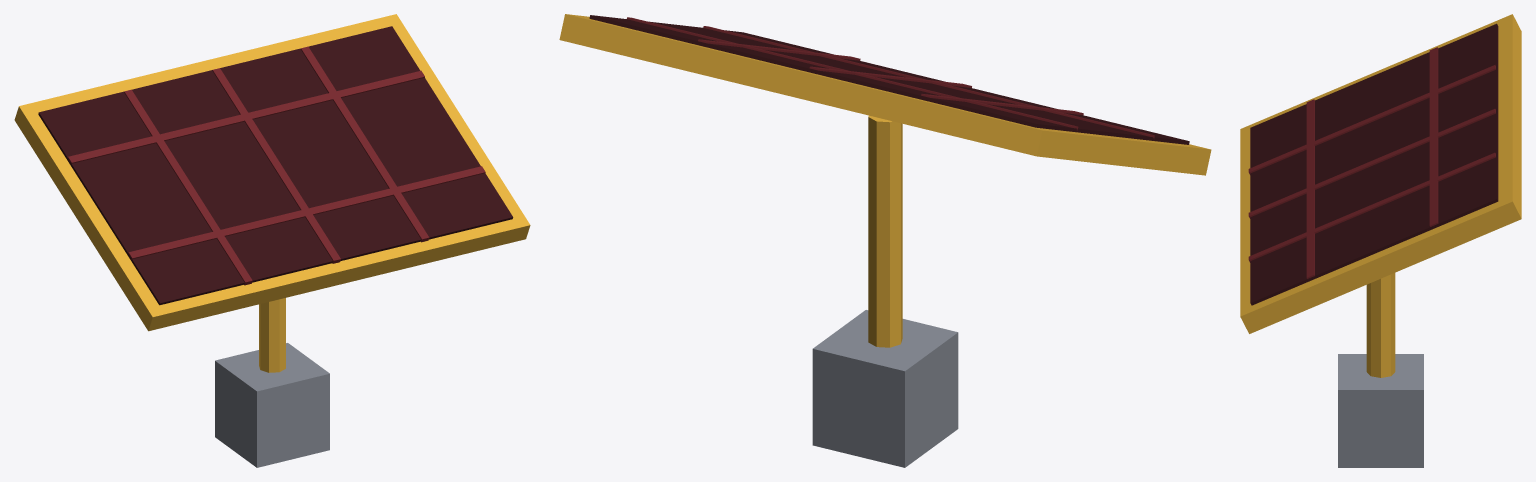
The model's file is painel-solar.glb.
3 renders of one model, left to right at view 1: azimuth 30°, elevation 25°; view 2: azimuth 150°, elevation 25°; view 3: azimuth 270°, elevation 25°, orthographic. The views are drawn at different scales.
Visible parts, largest first — view 1: Cube.002, Cube.001, Cube, Cube.007, Cube.006, Cube.005, Cube.003, Cube.004, Cylinder; view 2: Cube.001, Cube, Cube.002, Cylinder, Cube.006, Cube.007; view 3: Cube.002, Cube.001, Cube, Cylinder, Cube.007, Cube.006, Cube.005, Cube.003, Cube.004.
Boxes of the visible parts, x1=… form: Cube.002: x1=38, y1=26, x2=513, y2=305; Cube.001: x1=14, y1=14, x2=530, y2=331; Cube: x1=215, y1=343, x2=329, y2=467; Cube.007: x1=68, y1=70, x2=424, y2=163; Cube.006: x1=128, y1=166, x2=485, y2=260; Cube.005: x1=300, y1=46, x2=429, y2=242; Cube.003: x1=124, y1=89, x2=252, y2=285; Cube.004: x1=212, y1=68, x2=340, y2=263; Cylinder: x1=259, y1=298, x2=285, y2=372; Cube.001: x1=559, y1=14, x2=1211, y2=175; Cube: x1=812, y1=310, x2=958, y2=467; Cube.002: x1=589, y1=15, x2=1189, y2=144; Cylinder: x1=868, y1=115, x2=902, y2=347; Cube.006: x1=703, y1=26, x2=1154, y2=140; Cube.007: x1=627, y1=17, x2=1078, y2=130; Cube.002: x1=1250, y1=23, x2=1498, y2=305; Cube.001: x1=1240, y1=14, x2=1521, y2=333; Cube: x1=1338, y1=354, x2=1423, y2=467; Cylinder: x1=1366, y1=273, x2=1395, y2=377; Cube.007: x1=1429, y1=47, x2=1438, y2=226; Cube.006: x1=1306, y1=99, x2=1314, y2=278; Cube.005: x1=1248, y1=152, x2=1495, y2=262; Cube.003: x1=1248, y1=65, x2=1495, y2=174; Cube.004: x1=1248, y1=109, x2=1495, y2=218.
Size of the model in its own units: 1.24 by 1.05 by 0.7867.
